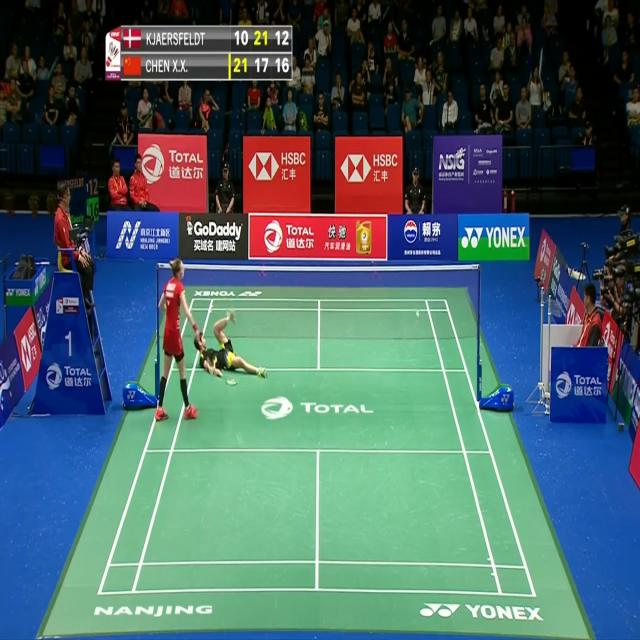Player1: (154, 255, 204, 426)
Player2: (189, 305, 277, 388)
